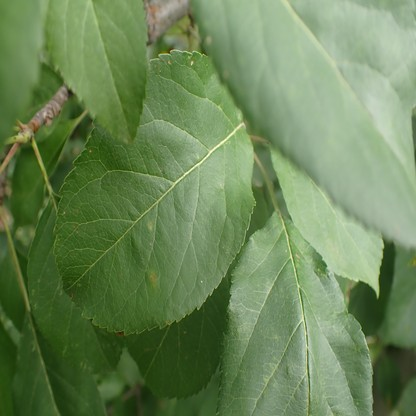scab: (148, 269, 158, 288), (148, 221, 152, 231)
